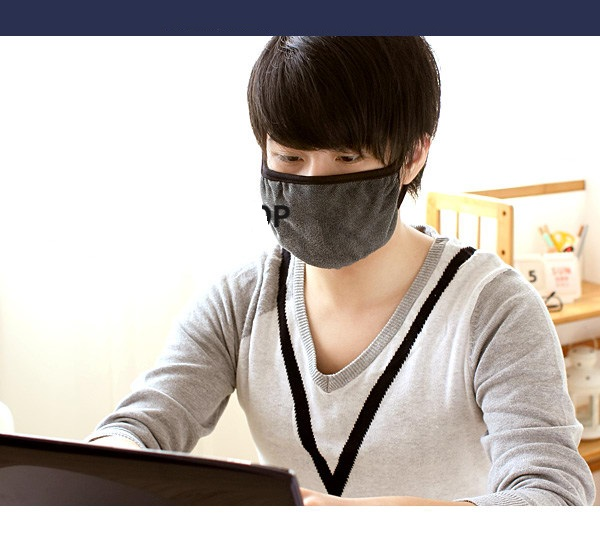face_mask: (260, 85, 397, 258)
